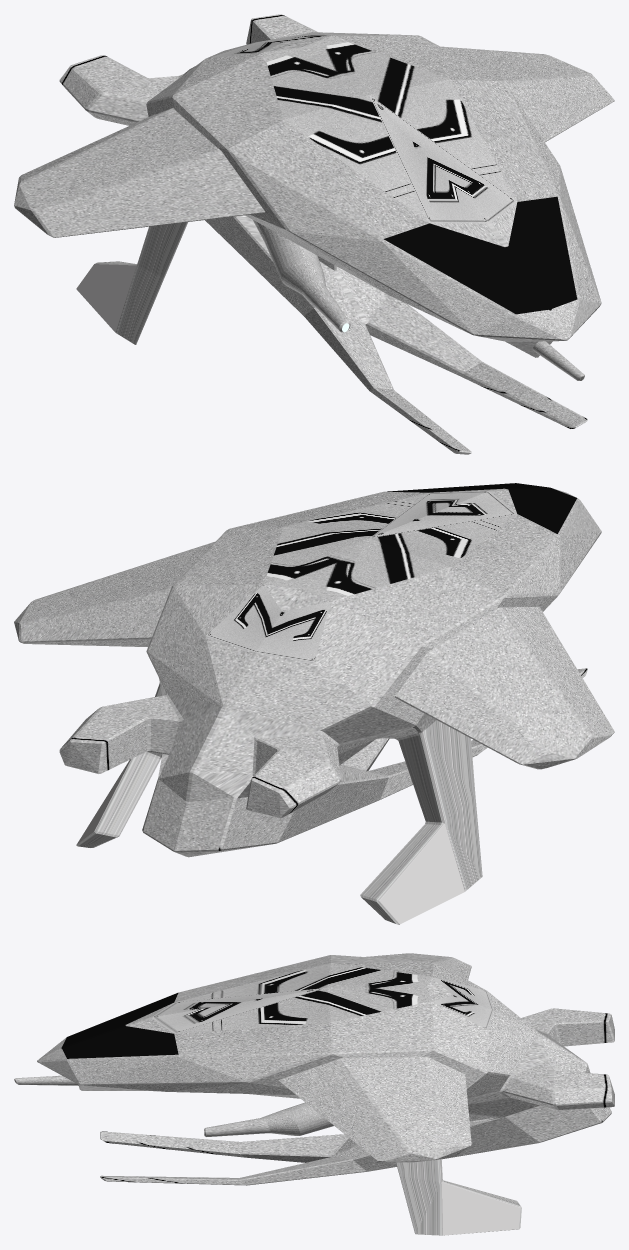
File: ZYTHERON_CRAFT.glb
3 renders of one model, top to bottom at view 1: azimuth 30°, elevation 25°; view 2: azimuth 150°, elevation 25°; view 3: azimuth 270°, elevation 25°, orthographic. The views are drawn at different scales.
Visible parts, largest first — view 1: Icosphere; view 2: Icosphere; view 3: Icosphere.
Boxes of the visible parts, box(x1,y1,x2,y2) form: Icosphere: box(14, 14, 614, 454); Icosphere: box(14, 483, 614, 924); Icosphere: box(14, 953, 614, 1235).
Size of the model in its own units: 0.2479 by 0.1067 by 0.3126.
Materials: 5 (3 with a texture image).
